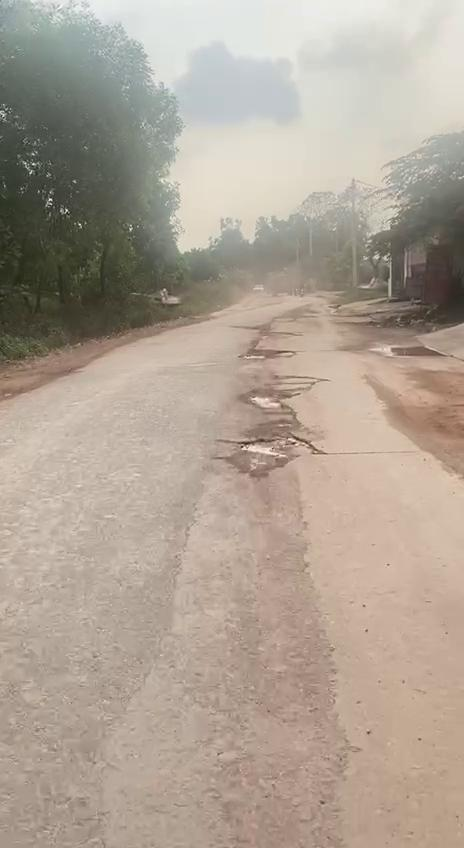pothole: (228, 434, 302, 475), (244, 391, 298, 414)
